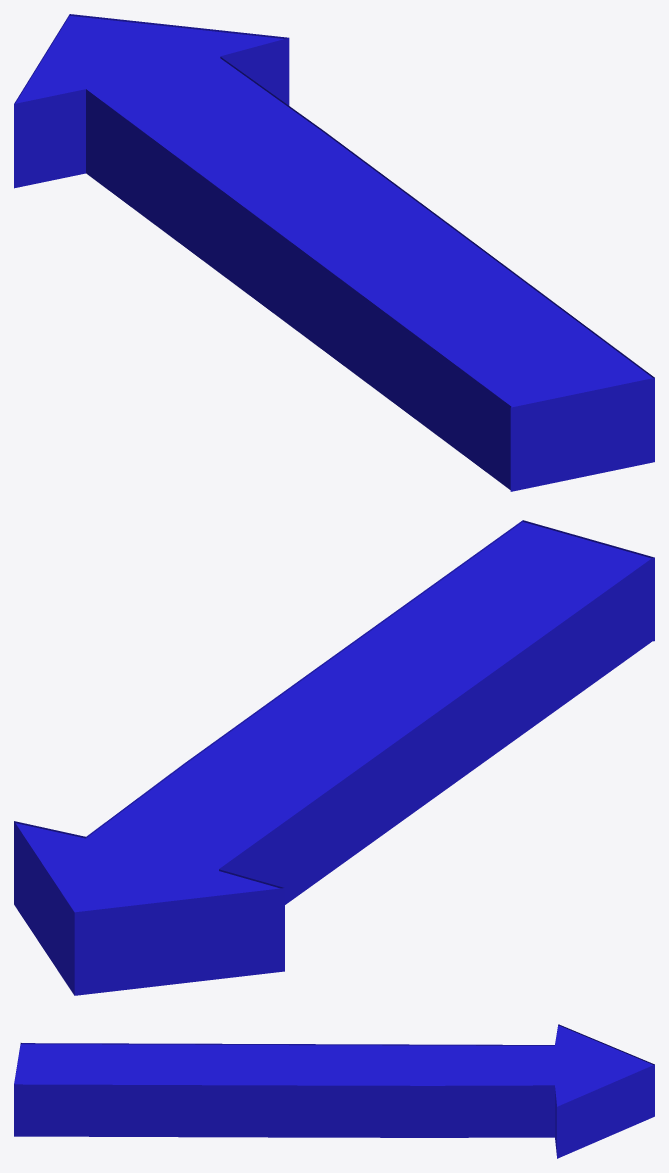
File: arrow.gltf
3 renders of one model, top to bottom at view 1: azimuth 30°, elevation 25°; view 2: azimuth 150°, elevation 25°; view 3: azimuth 270°, elevation 25°, orthographic. The views are drawn at different scales.
Parts seen in each view (by area): view 1: Cube; view 2: Cube; view 3: Cube.
Part boxes in pixels (x1=…): Cube: x1=14, y1=14, x2=654, y2=491; Cube: x1=14, y1=520, x2=654, y2=995; Cube: x1=14, y1=1024, x2=654, y2=1158.
Bounding box in the file's own units: 0.9775 × 0.2871 × 3.2.
